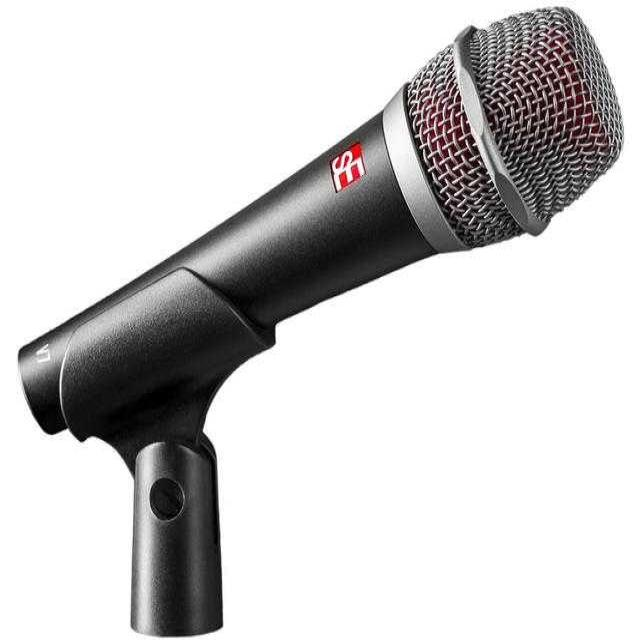microphone: (40, 6, 615, 437)
